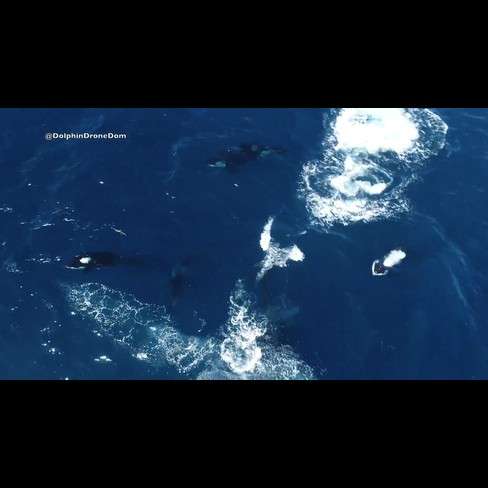orca: (187, 129, 284, 176), (60, 244, 155, 289)
